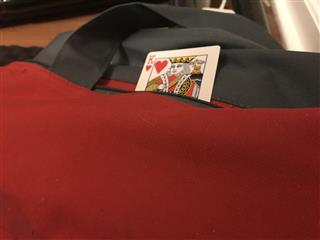KingOfHearts: (134, 44, 220, 102)
